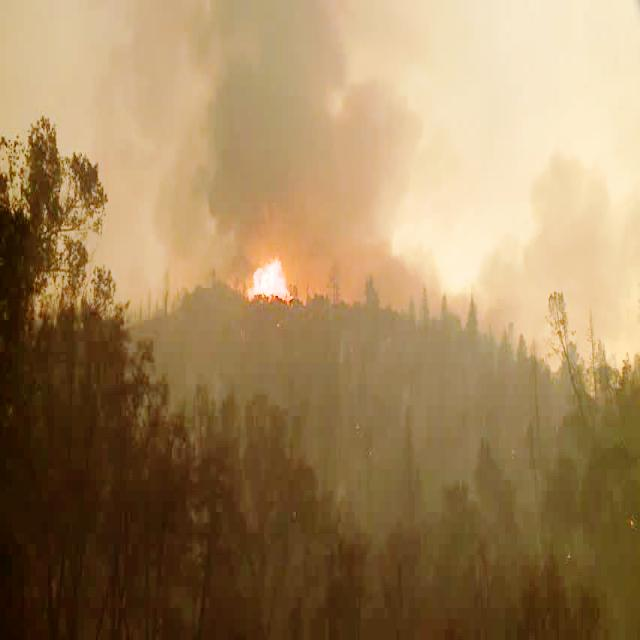api: (239, 249, 296, 316)
asap: (127, 1, 461, 315), (466, 114, 640, 402)
